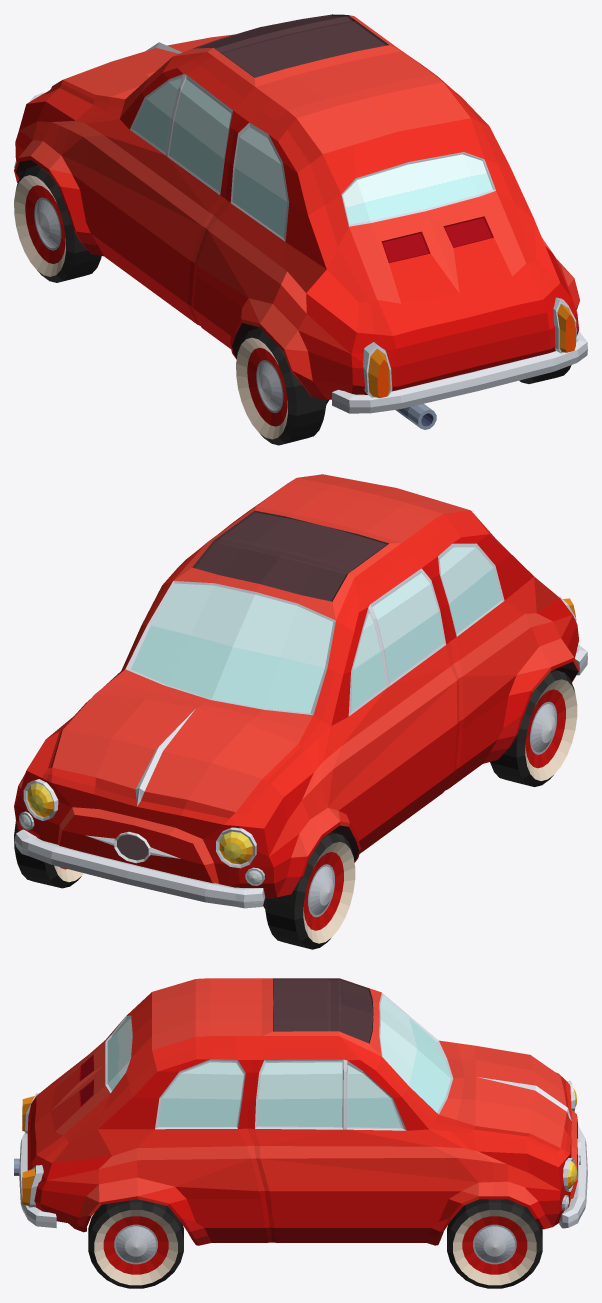
File: W.Fiat_500_model (2).gltf
3 renders of one model, top to bottom at view 1: azimuth 30°, elevation 25°; view 2: azimuth 150°, elevation 25°; view 3: azimuth 270°, elevation 25°, orthographic. The views are drawn at different scales.
Parts seen in each view (by area): view 1: cuboid (×4), weel_fr (×2), cylinder (×3); view 2: cuboid (×4), weel_fr (×3), cylinder (×3); view 3: cuboid (×4), weel_fr (×2), cylinder.
Part boxes in pixels (x1,y1,x2,y2): cuboid (×4): (14,14,587,413); weel_fr (×2): (14,165,326,445); cylinder (×3): (363,297,576,429); cuboid (×4): (14,474,579,908); weel_fr (×3): (14,669,577,949); cylinder (×3): (23,779,256,868); cuboid (×4): (19,978,587,1245); weel_fr (×2): (88,1199,542,1288); cylinder: (22,1165,43,1207).
Size of the model in its own units: 0.9943 by 0.9301 by 2.1.
1 material, 1 textured.
